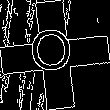O_S: (31, 27, 79, 83)
